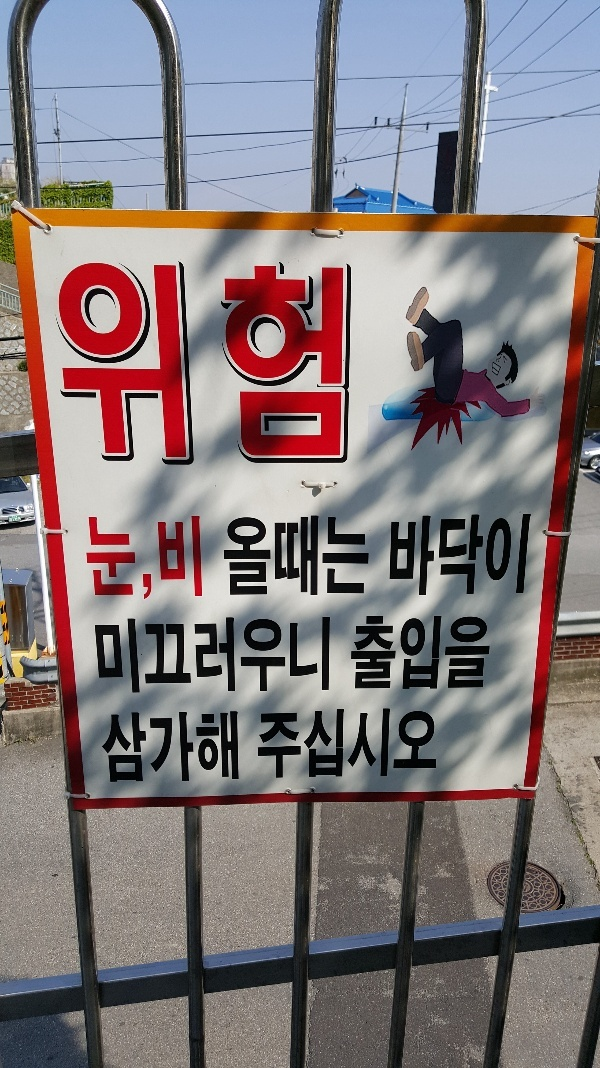text: (49, 259, 64, 474), (65, 259, 80, 474), (81, 259, 96, 474), (97, 259, 112, 474), (113, 259, 128, 474), (129, 259, 144, 474), (145, 259, 160, 474), (161, 259, 176, 474), (177, 259, 192, 474), (193, 259, 208, 474), (209, 259, 224, 474), (225, 259, 240, 474), (241, 259, 256, 474), (257, 259, 272, 474), (273, 259, 288, 474), (289, 259, 304, 474), (305, 259, 320, 474), (321, 259, 336, 474), (337, 259, 348, 474), (401, 505, 416, 611), (417, 505, 432, 611), (433, 505, 448, 611), (449, 505, 464, 611), (465, 505, 480, 611), (481, 505, 496, 611), (497, 505, 512, 611), (513, 505, 528, 611), (225, 509, 240, 607), (241, 509, 256, 607), (257, 509, 272, 607), (273, 509, 288, 607), (289, 509, 304, 607), (305, 509, 320, 607), (321, 509, 336, 607), (337, 509, 352, 607), (353, 509, 368, 607), (81, 509, 96, 605), (97, 509, 112, 605), (113, 509, 128, 605), (129, 509, 144, 605), (145, 509, 160, 605), (161, 509, 176, 605), (177, 509, 192, 605), (225, 703, 241, 792), (353, 607, 368, 699), (369, 607, 384, 699), (385, 607, 400, 699), (401, 607, 416, 699), (417, 607, 432, 699), (433, 607, 448, 699), (449, 607, 464, 699), (465, 607, 480, 699), (97, 613, 112, 703), (113, 613, 128, 703), (129, 613, 144, 703), (145, 613, 160, 703), (161, 613, 176, 703), (177, 613, 192, 703), (193, 613, 208, 703), (209, 613, 224, 703), (225, 613, 240, 703), (241, 613, 256, 703), (257, 613, 272, 703), (273, 613, 288, 703), (289, 613, 304, 703), (305, 613, 320, 703), (113, 703, 128, 792), (129, 703, 144, 792), (145, 703, 160, 792), (161, 703, 176, 792), (177, 703, 192, 792), (193, 703, 208, 792), (209, 703, 224, 792), (257, 707, 272, 788), (273, 707, 288, 788), (289, 707, 304, 788), (305, 707, 320, 788), (321, 707, 336, 788), (337, 707, 352, 788), (353, 707, 368, 788), (369, 707, 384, 788), (385, 707, 400, 788), (401, 707, 416, 788), (417, 707, 432, 788), (193, 509, 205, 605), (321, 613, 333, 703), (390, 505, 400, 611), (481, 607, 491, 699), (529, 505, 535, 611), (433, 707, 440, 788), (219, 509, 224, 607), (369, 509, 374, 607), (107, 703, 112, 792), (92, 613, 96, 703), (349, 607, 352, 699), (79, 509, 80, 605)
